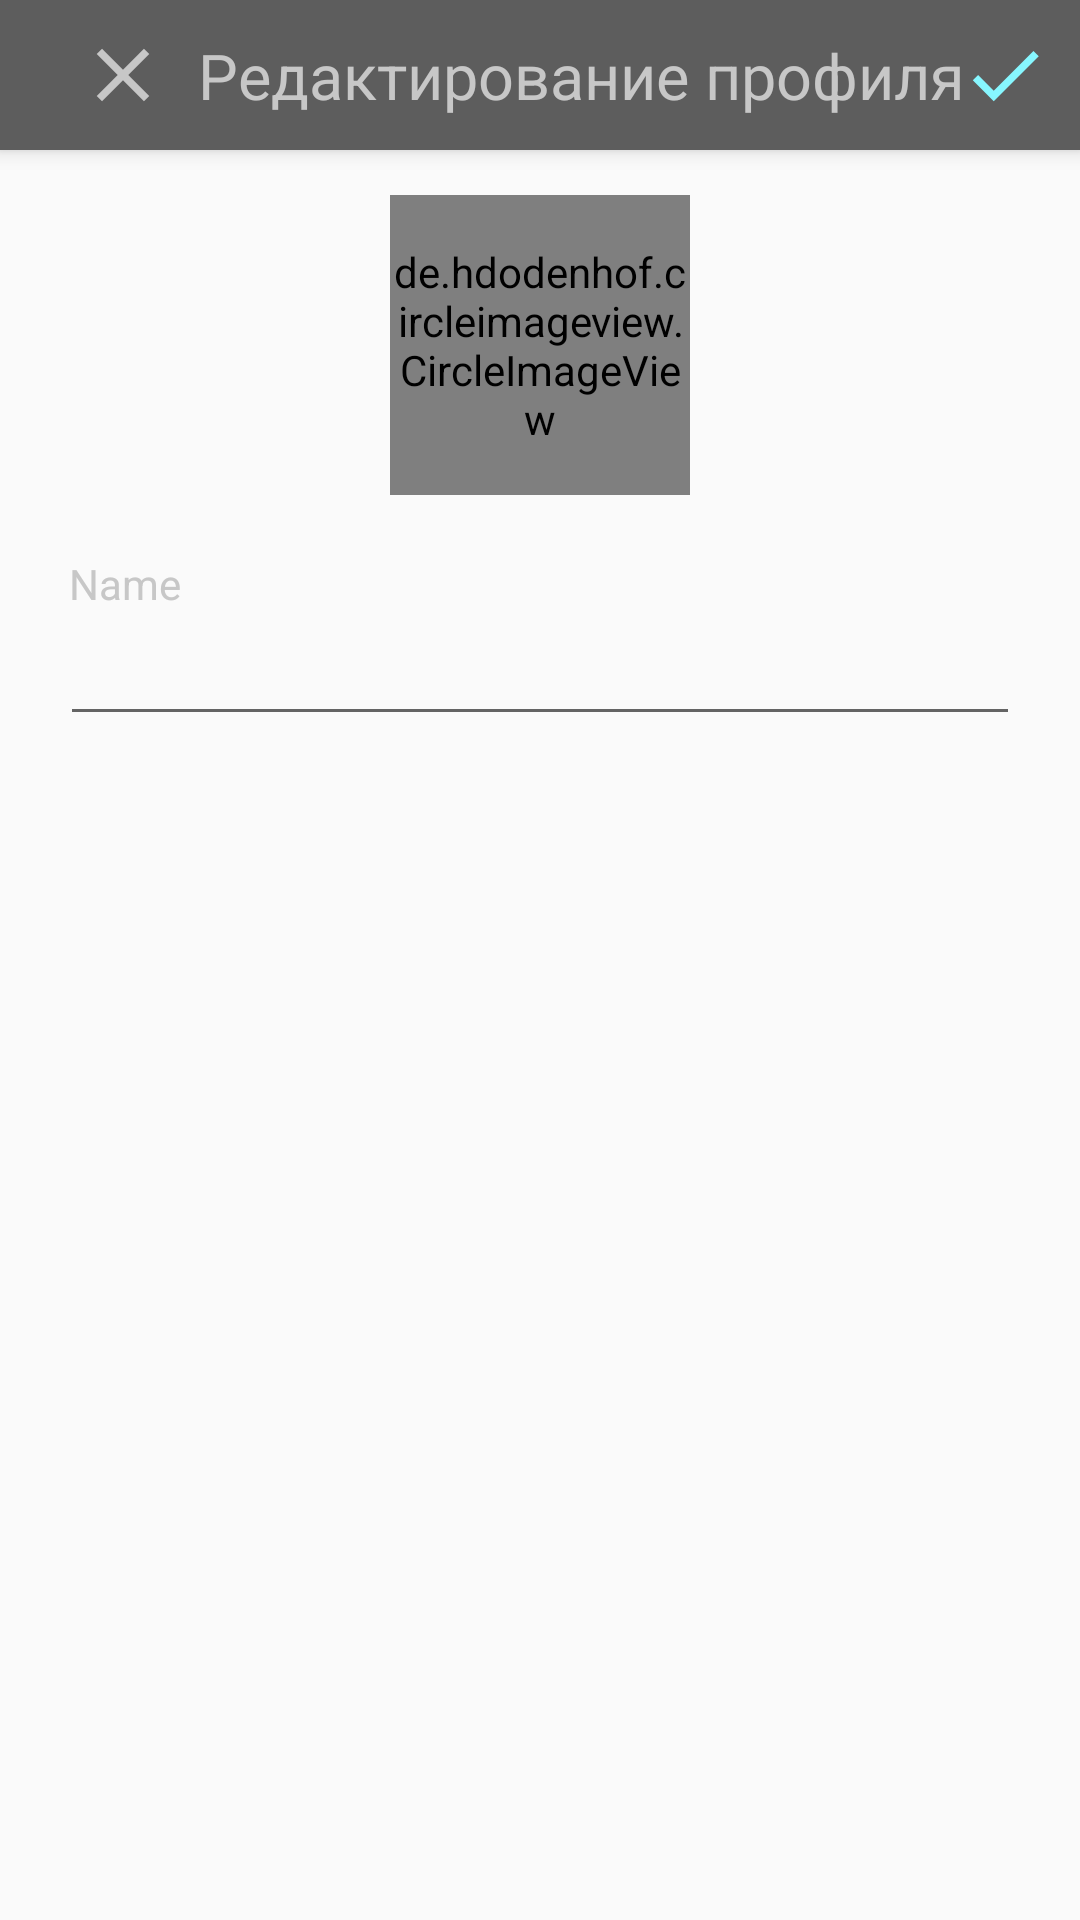

Icons on this 1080px x 1920px Android screen, each with its box as [x1=x1, y1=y1, x2=x2, y2=y2]:
close: [x1=97, y1=49, x2=149, y2=101]
